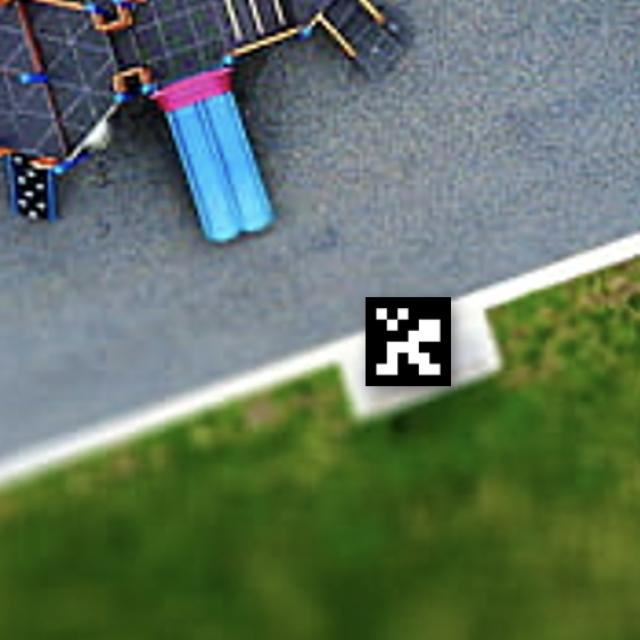marker: (357, 290, 457, 390)
